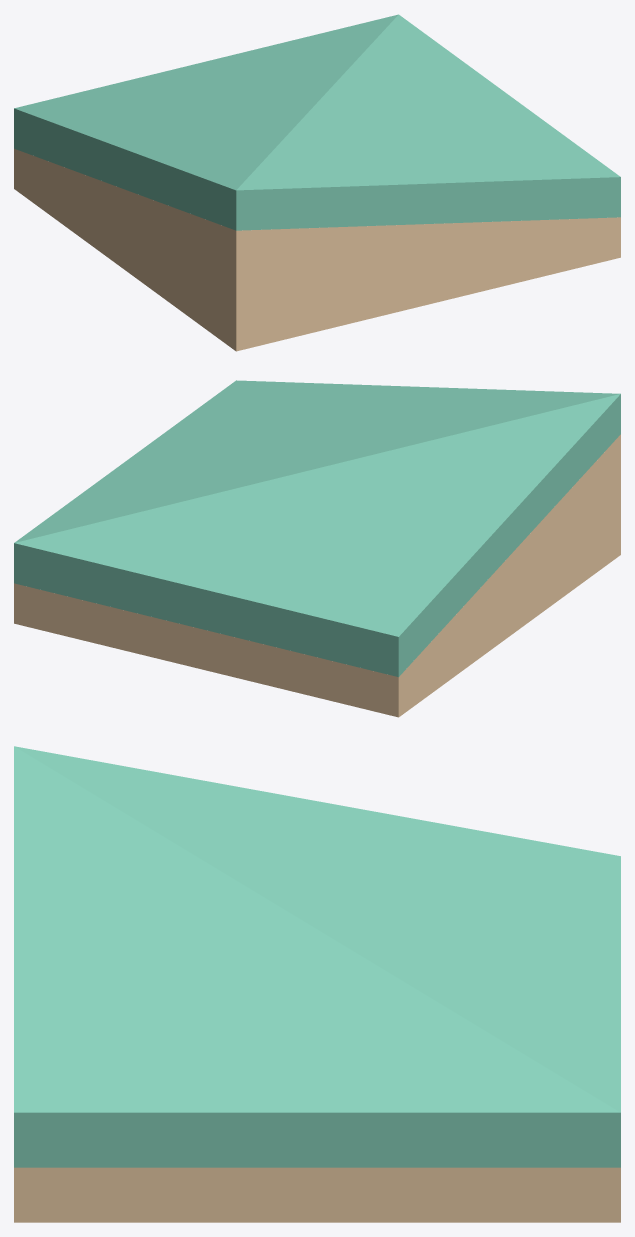
File: tile_cornerOuter.glb
3 views of the same model, one above another, from view 1: azimuth 30°, elevation 25°; view 2: azimuth 150°, elevation 25°; view 3: azimuth 270°, elevation 25° (orthographic). The views are drawn at different scales.
Visible parts, largest first — view 1: tile_cornerOuter; view 2: tile_cornerOuter; view 3: tile_cornerOuter.
Boxes of the visible parts, x1,y1,x2,y2 form: tile_cornerOuter: (14,14,620,351); tile_cornerOuter: (14,380,620,717); tile_cornerOuter: (14,746,620,1222).
Size of the model in its own units: 1 by 0.4 by 1.
